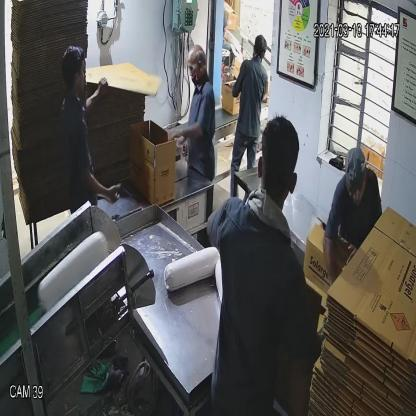no_glove: (76, 164, 132, 222), (74, 75, 113, 116), (162, 119, 207, 150)
